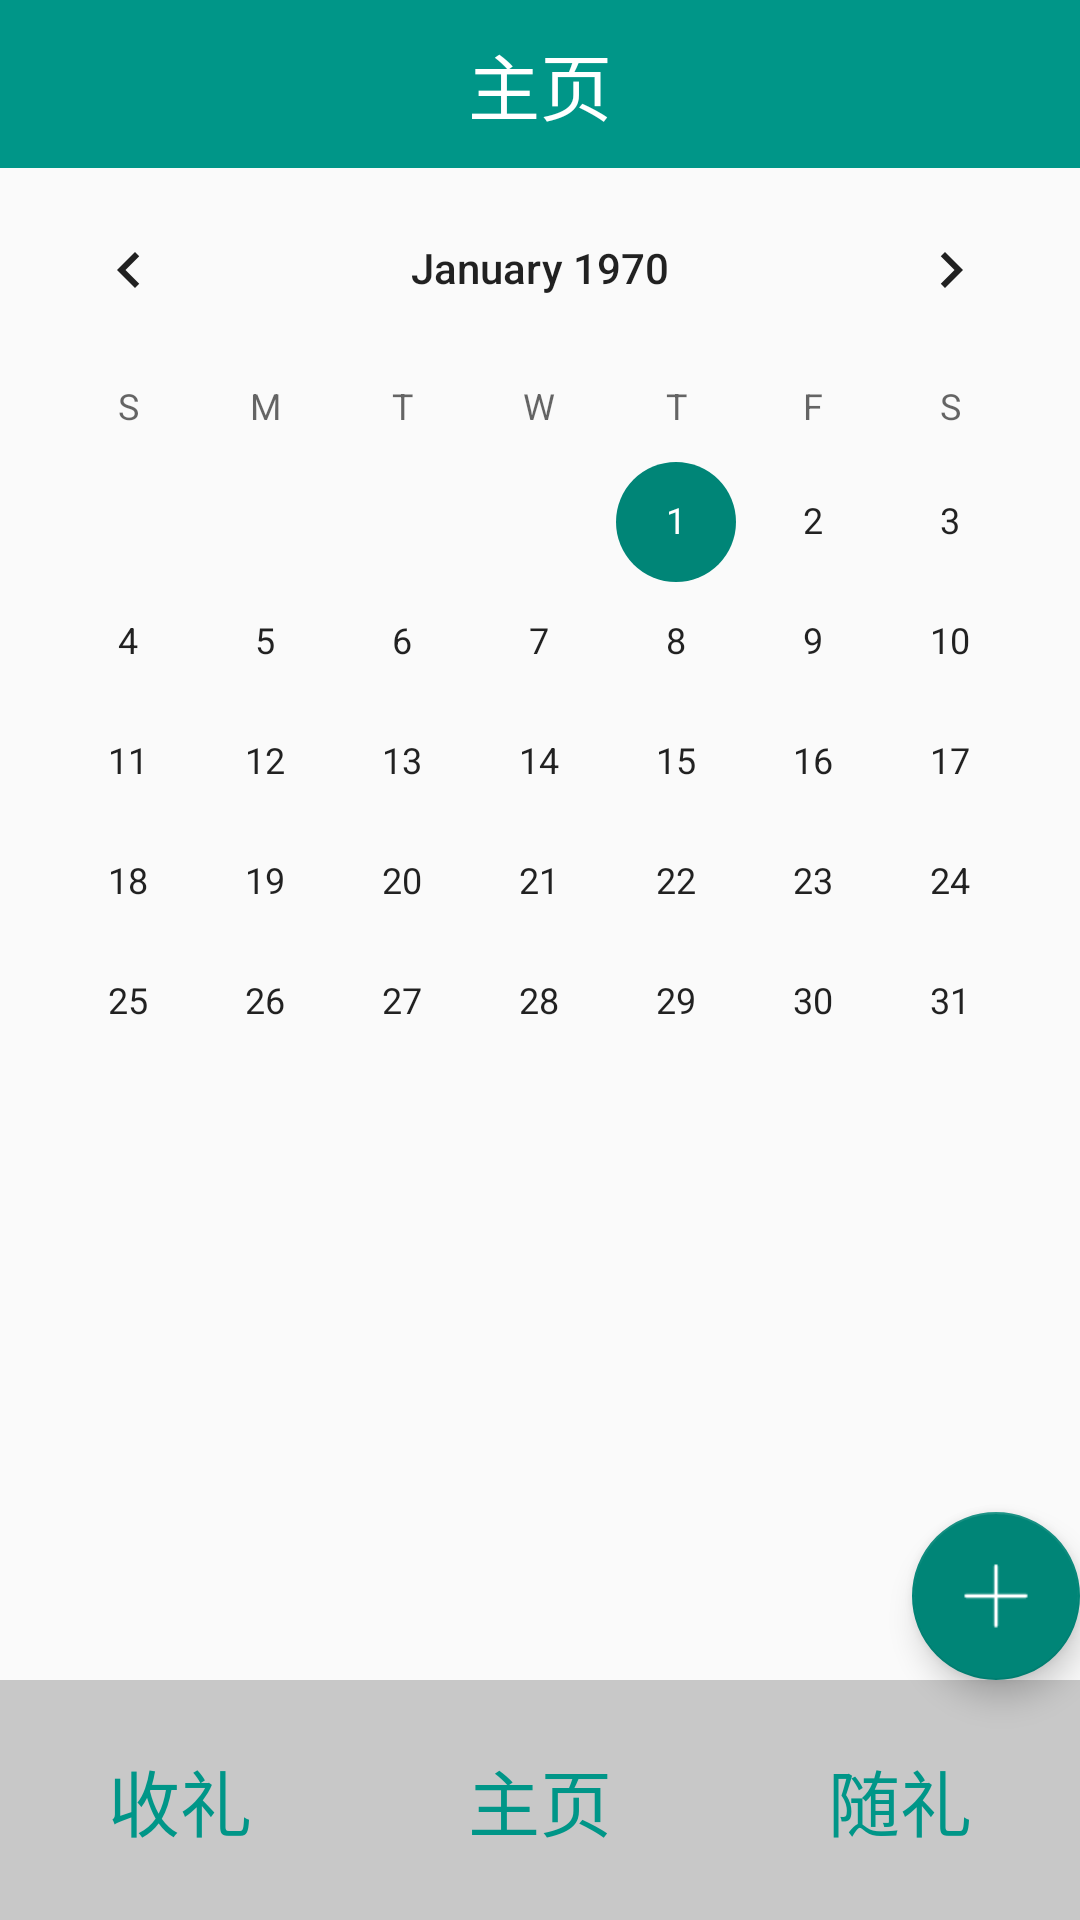

Icons on this 1080 × 1920 Android screen, each with the point to tap as point (x, y):
add: point (996, 1596)
